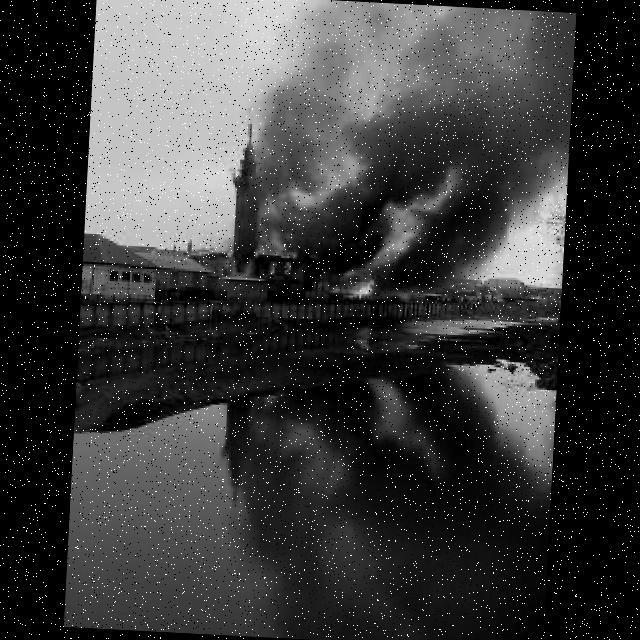Fire: (185, 221, 303, 269), (314, 260, 385, 315)
Smoke: (236, 60, 521, 294)
